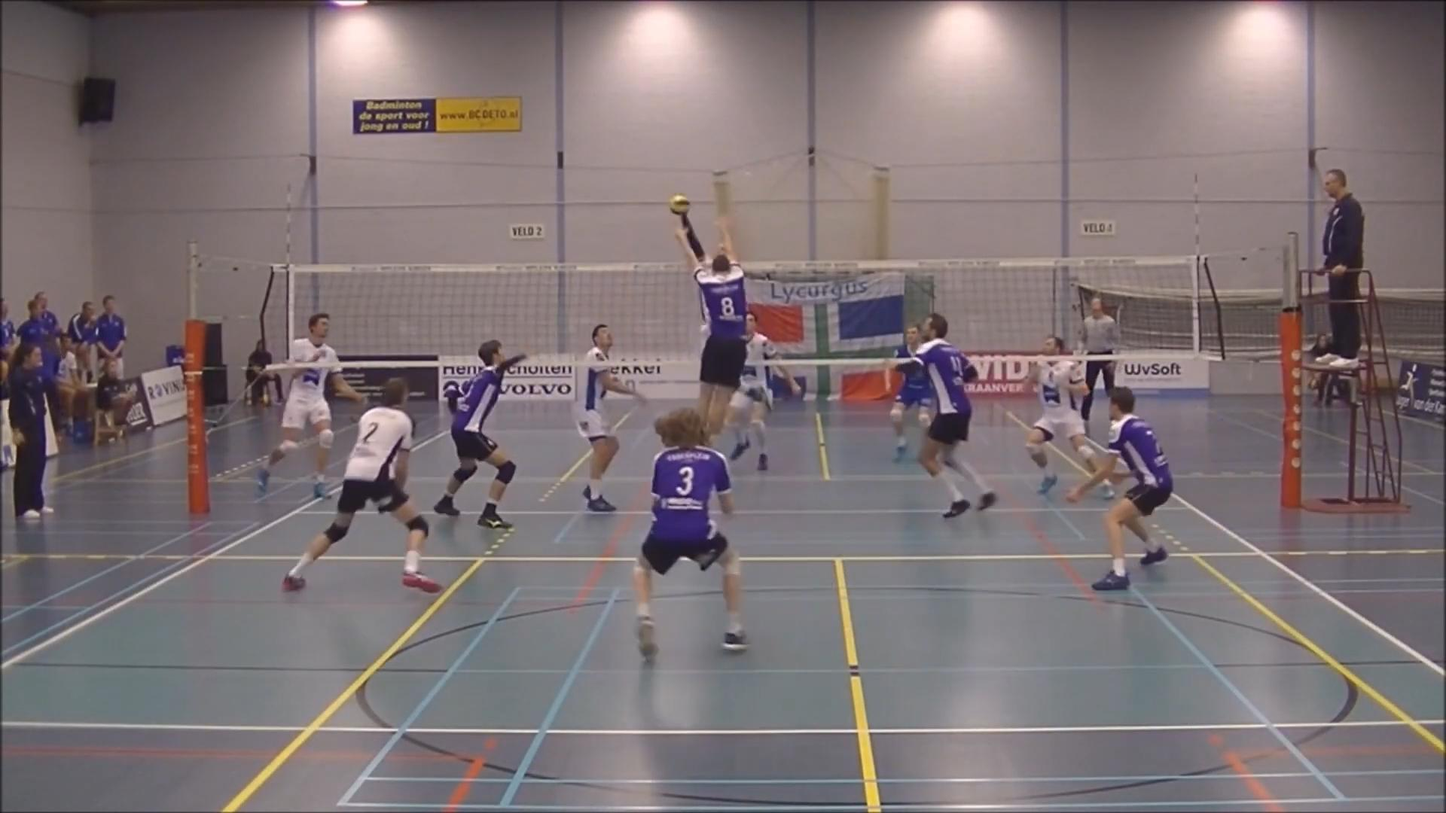muro: (656, 209, 760, 460)
